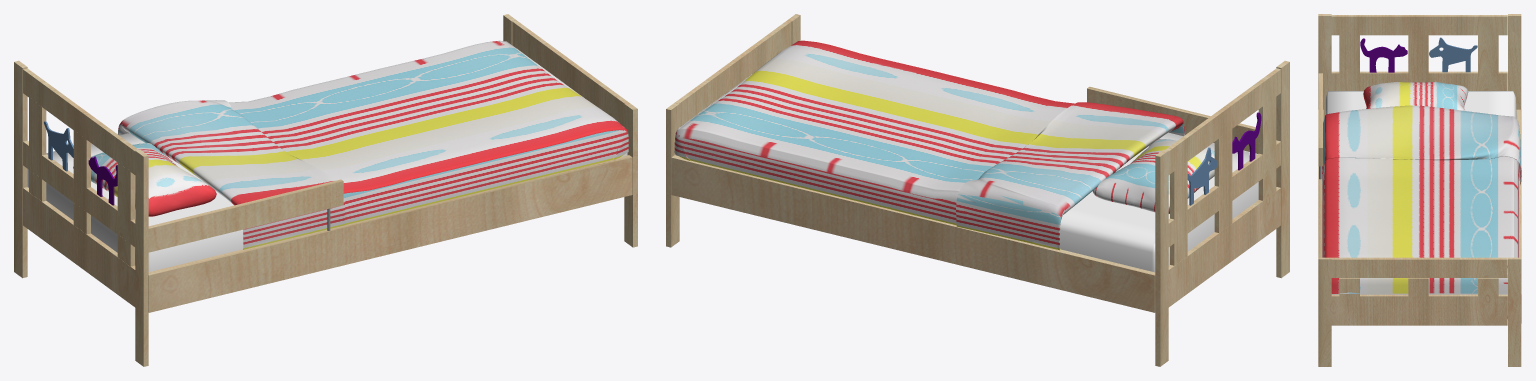
Rendered from IKEA-Kritter_Bed_Frame_And_Guard_Rail-3D.obj.
3 views of the same model, side by side, from view 1: azimuth 30°, elevation 25°; view 2: azimuth 150°, elevation 25°; view 3: azimuth 270°, elevation 25° (orthographic). The views are drawn at different scales.
Parts seen in each view (by area): view 1: Line01, Circle01, Rectangle01, Box01; view 2: Line01, Circle01, Rectangle01, Box01; view 3: Line01, Circle01, Box01, Rectangle01.
Boxes of the visible parts, x1,y1,x2,y2 form: Line01: [118, 40, 628, 249]; Circle01: [14, 14, 637, 366]; Rectangle01: [27, 41, 627, 271]; Box01: [73, 143, 216, 216]; Line01: [674, 40, 1185, 250]; Circle01: [666, 14, 1289, 366]; Rectangle01: [675, 42, 1258, 272]; Box01: [1092, 139, 1214, 213]; Line01: [1322, 105, 1521, 293]; Circle01: [1318, 14, 1521, 366]; Box01: [1363, 81, 1468, 110]; Rectangle01: [1325, 91, 1516, 318].
Size of the model in its own units: 1650 by 670 by 751.
